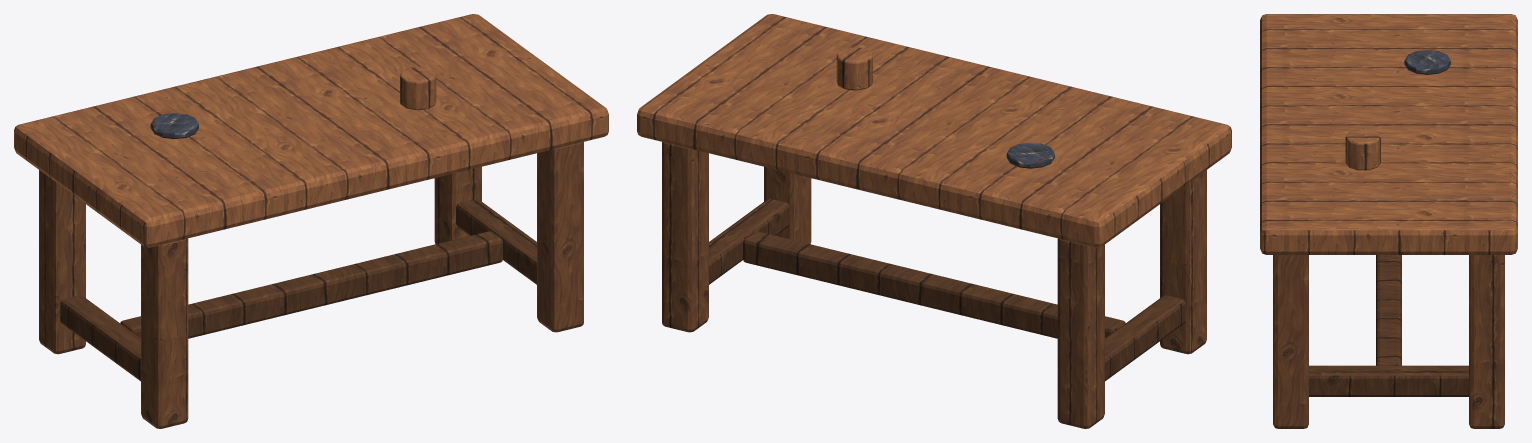
The model's file is table__plank_root.glb.
3 renders of one model, left to right at view 1: azimuth 30°, elevation 25°; view 2: azimuth 150°, elevation 25°; view 3: azimuth 270°, elevation 25°, orthographic. The views are drawn at different scales.
Visible parts, largest first — view 1: model; view 2: model; view 3: model.
Boxes of the visible parts, <box> form: model: <box>14,14,608,428</box>; model: <box>637,14,1231,428</box>; model: <box>1260,14,1517,428</box>.
Size of the model in its own units: 2 by 1.02 by 1.
Materials: 4 (4 with a texture image).
